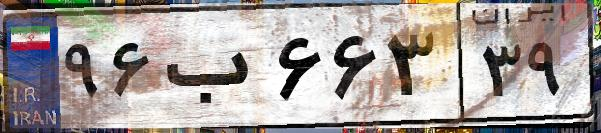3: (385, 28, 445, 110), (475, 38, 525, 113)
6: (270, 28, 330, 110), (330, 28, 385, 110), (110, 28, 158, 98)
9: (57, 26, 110, 100), (525, 38, 570, 115)
ب: (158, 20, 270, 120)
